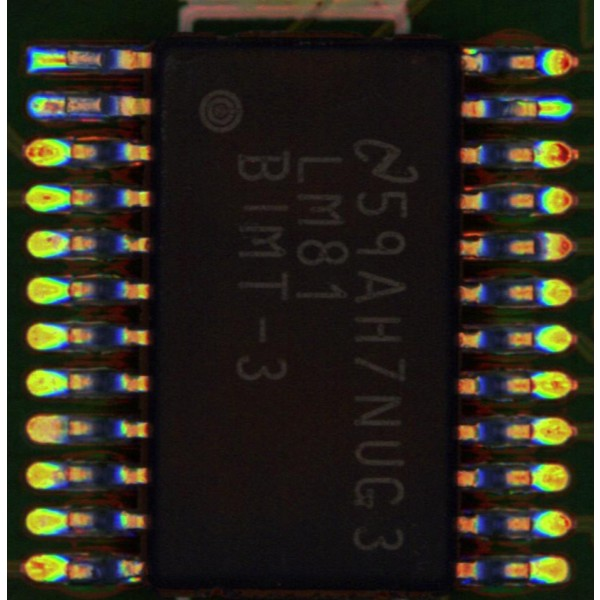Bad_podu: (515, 379, 550, 394), (48, 101, 87, 114), (48, 53, 81, 66), (47, 471, 87, 481), (523, 103, 553, 113)
